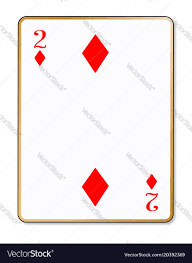two of diamonds: (19, 16, 170, 220)
